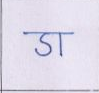aa_matra: (59, 34, 62, 57)
